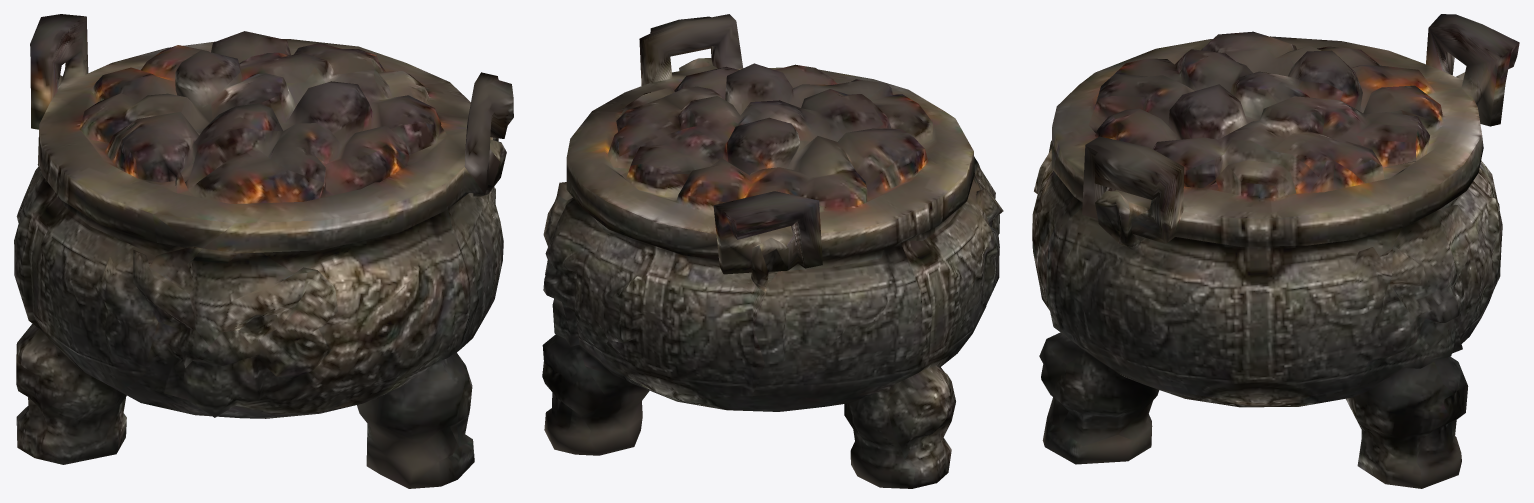
File: SM_Prop_InfernoCrucible.glb
3 views of the same model, side by side, from view 1: azimuth 30°, elevation 25°; view 2: azimuth 150°, elevation 25°; view 3: azimuth 270°, elevation 25° (orthographic). The views are drawn at different scales.
Parts seen in each view (by area): view 1: SM_Prop_InfernoCrucible_LOD0; view 2: SM_Prop_InfernoCrucible_LOD0; view 3: SM_Prop_InfernoCrucible_LOD0.
Part boxes in pixels (left/top/right/bottom): SM_Prop_InfernoCrucible_LOD0: left=14, top=14, right=513, bottom=488; SM_Prop_InfernoCrucible_LOD0: left=542, top=14, right=1003, bottom=488; SM_Prop_InfernoCrucible_LOD0: left=1032, top=14, right=1519, bottom=488.
Size of the model in its own units: 1.27 by 0.9879 by 1.28.
1 material, 1 textured.
